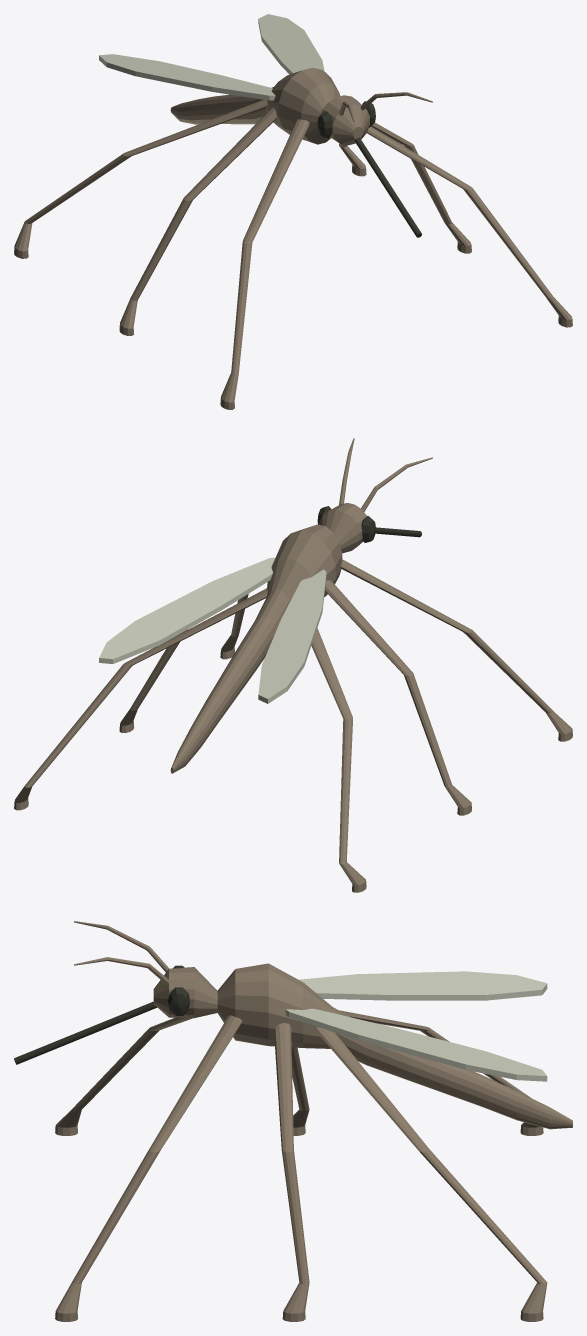
3 renders of one model, top to bottom at view 1: azimuth 30°, elevation 25°; view 2: azimuth 150°, elevation 25°; view 3: azimuth 270°, elevation 25°, orthographic. The views are drawn at different scales.
Visible parts, largest first — view 1: WholeSmallHeadHighThoraxAndSlenderDroopingAbdomen, WholeLongAngularMosquitoLegAndFiniteToe0_0, WholeNarrowRearSweptMosquitoWing0, WholeLongAngularMosquitoLegAndFiniteToe0_1, WholeNarrowRearSweptMosquitoWing1, WholeLongAngularMosquitoLegAndFiniteToe0_2, WholeLongAngularMosquitoLegAndFiniteToe1_0, WholeLongAngularMosquitoLegAndFiniteToe1_1, WholeContinuousSlenderDownwardProboscis; view 2: WholeSmallHeadHighThoraxAndSlenderDroopingAbdomen, WholeNarrowRearSweptMosquitoWing1, WholeNarrowRearSweptMosquitoWing0, WholeLongAngularMosquitoLegAndFiniteToe0_2, WholeLongAngularMosquitoLegAndFiniteToe0_1, WholeLongAngularMosquitoLegAndFiniteToe1_2, WholeLongAngularMosquitoLegAndFiniteToe0_0, WholeLongAngularMosquitoLegAndFiniteToe1_1; view 3: WholeSmallHeadHighThoraxAndSlenderDroopingAbdomen, WholeNarrowRearSweptMosquitoWing0, WholeNarrowRearSweptMosquitoWing1, WholeLongAngularMosquitoLegAndFiniteToe1_0, WholeLongAngularMosquitoLegAndFiniteToe1_1, WholeLongAngularMosquitoLegAndFiniteToe1_2, WholeLongAngularMosquitoLegAndFiniteToe0_0, WholeContinuousSlenderDownwardProboscis, WholeLongAngularMosquitoLegAndFiniteToe0_2, WholeLongAngularMosquitoLegAndFiniteToe0_1, WholeSmallMosquitoLateralEye1.
Part boxes in pixels (box(x1,y1,x2,y2)): WholeSmallHeadHighThoraxAndSlenderDroopingAbdomen: box(170, 67, 369, 145); WholeLongAngularMosquitoLegAndFiniteToe0_0: box(220, 119, 309, 409); WholeNarrowRearSweptMosquitoWing0: box(99, 54, 275, 100); WholeLongAngularMosquitoLegAndFiniteToe0_1: box(119, 107, 277, 335); WholeNarrowRearSweptMosquitoWing1: box(258, 14, 324, 74); WholeLongAngularMosquitoLegAndFiniteToe0_2: box(14, 99, 267, 258); WholeLongAngularMosquitoLegAndFiniteToe1_0: box(367, 126, 572, 327); WholeLongAngularMosquitoLegAndFiniteToe1_1: box(371, 122, 471, 253); WholeContinuousSlenderDownwardProboscis: box(354, 137, 421, 237); WholeSmallHeadHighThoraxAndSlenderDroopingAbdomen: box(170, 503, 366, 773); WholeNarrowRearSweptMosquitoWing1: box(99, 557, 275, 663); WholeNarrowRearSweptMosquitoWing0: box(258, 569, 326, 703); WholeLongAngularMosquitoLegAndFiniteToe0_2: box(311, 628, 366, 892); WholeLongAngularMosquitoLegAndFiniteToe0_1: box(325, 580, 471, 815); WholeLongAngularMosquitoLegAndFiniteToe1_2: box(14, 588, 267, 810); WholeLongAngularMosquitoLegAndFiniteToe0_0: box(341, 559, 572, 741); WholeLongAngularMosquitoLegAndFiniteToe1_1: box(119, 629, 187, 732); WholeSmallHeadHighThoraxAndSlenderDroopingAbdomen: box(153, 963, 572, 1129); WholeNarrowRearSweptMosquitoWing0: box(299, 971, 547, 1000); WholeNarrowRearSweptMosquitoWing1: box(285, 1008, 547, 1081); WholeLongAngularMosquitoLegAndFiniteToe1_0: box(55, 1015, 242, 1321); WholeLongAngularMosquitoLegAndFiniteToe1_1: box(274, 1023, 309, 1321); WholeLongAngularMosquitoLegAndFiniteToe1_2: box(315, 1027, 547, 1321); WholeLongAngularMosquitoLegAndFiniteToe0_0: box(55, 1017, 192, 1135); WholeContinuousSlenderDownwardProboscis: box(14, 1001, 156, 1064); WholeLongAngularMosquitoLegAndFiniteToe0_2: box(339, 1010, 543, 1135); WholeLongAngularMosquitoLegAndFiniteToe0_1: box(291, 1047, 309, 1135); WholeSmallMosquitoLateralEye1: box(167, 987, 190, 1015).
Size of the model in its own units: 1.77 by 1.23 by 2.19.
